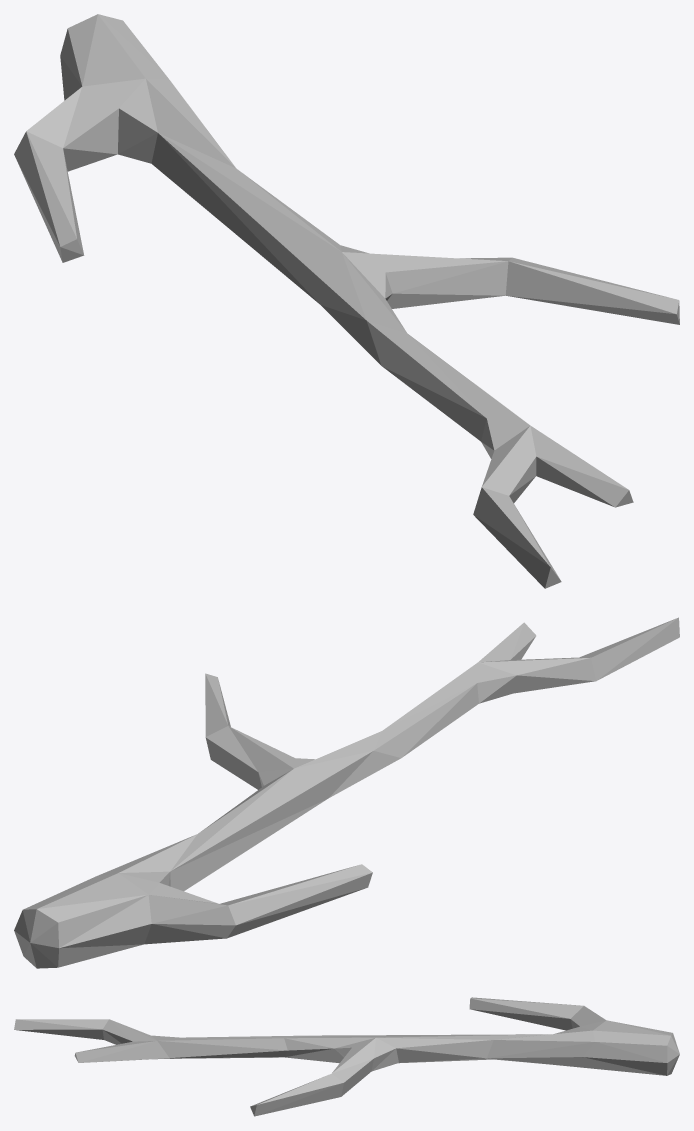
The model's file is Branch_01.fbx.
The picture shows the model from 3 angles, top to bottom: view 1: azimuth 30°, elevation 25°; view 2: azimuth 150°, elevation 25°; view 3: azimuth 270°, elevation 25°; orthographic projection. The views are drawn at different scales.
Parts seen in each view (by area): view 1: Branch_01; view 2: Branch_01; view 3: Branch_01.
Boxes of the visible parts, x1,y1,x2,y2 form: Branch_01: (14,14,679,588); Branch_01: (14,617,679,968); Branch_01: (14,997,679,1116).
Bounding box in the file's own units: 0.6265 × 0.1128 × 1.67.
